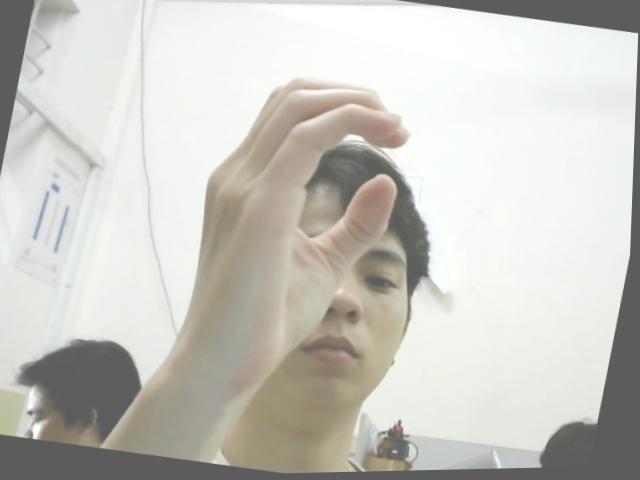C: (170, 63, 418, 404)
